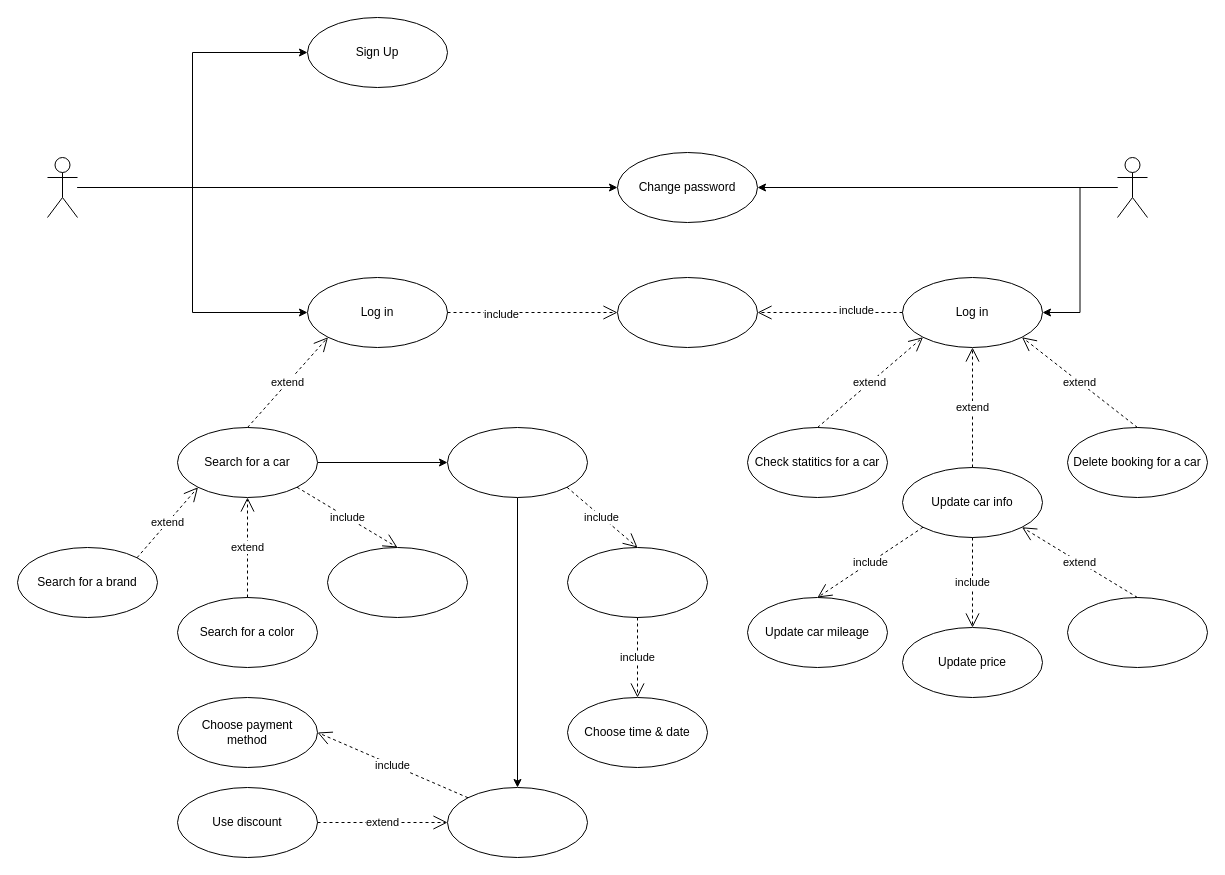
The diagram is 1225 pixels wide and 875 high, and some of its shapes have lost their labels. Here are the shapes that lost their labels. From the top down, the centre of each, then its label:
At [62,187]: "User".
At [1132,187]: "Admin".
At [687,312]: "Check login and password".
At [517,462]: "Book a car".
At [397,582]: "Search for time & date".
At [637,582]: "Choose a car".
At [1137,632]: "Update car accident".
At [517,822]: "Make a payment".
